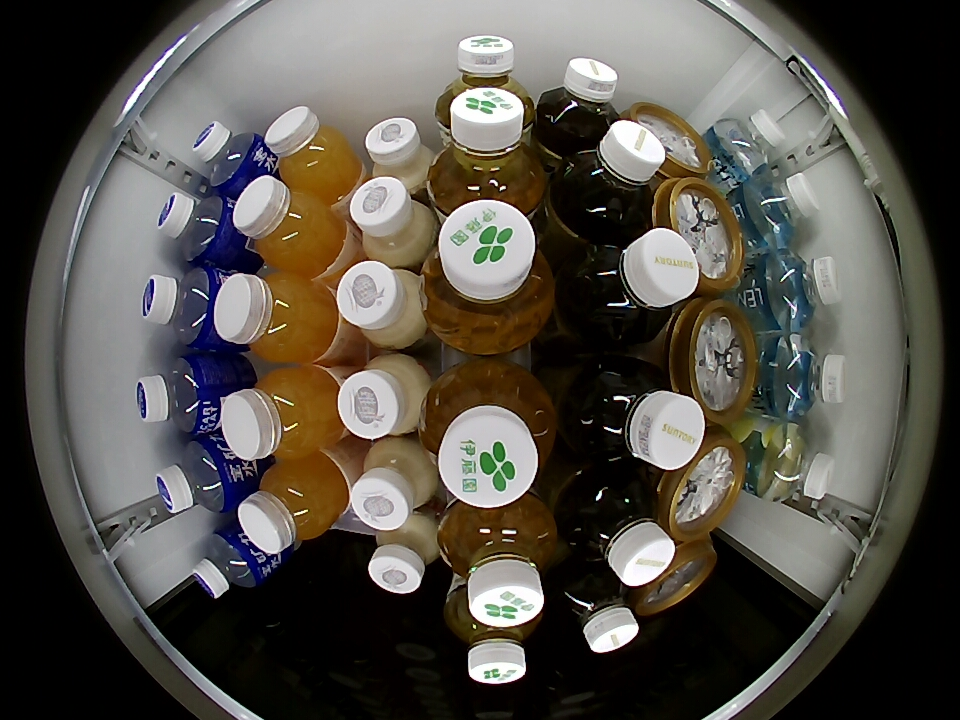baicha: (422, 199, 555, 353), (424, 360, 557, 508), (439, 498, 555, 626), (430, 87, 544, 213), (445, 589, 541, 685), (434, 35, 532, 126)
baokuangli: (141, 266, 224, 351), (135, 355, 222, 435), (155, 436, 242, 515), (156, 191, 236, 265), (192, 525, 271, 599), (193, 121, 269, 195)
lujiaoxiang: (653, 178, 748, 297), (664, 299, 759, 416), (657, 428, 746, 539), (627, 104, 710, 180), (636, 538, 718, 613)
qinningshui: (750, 422, 835, 504), (769, 333, 848, 419), (763, 249, 842, 329), (742, 172, 820, 246), (710, 109, 786, 179)
weic: (233, 176, 348, 277), (213, 272, 340, 363), (220, 366, 342, 460), (238, 453, 350, 555), (263, 107, 363, 202)
weiweidounai: (336, 260, 426, 350), (350, 439, 437, 532), (350, 175, 436, 267), (336, 354, 426, 441), (368, 515, 441, 595), (365, 116, 433, 192)
wulongcha: (575, 359, 703, 470), (572, 229, 698, 341), (565, 475, 673, 586), (561, 119, 666, 227), (554, 568, 639, 654), (539, 57, 620, 141)
